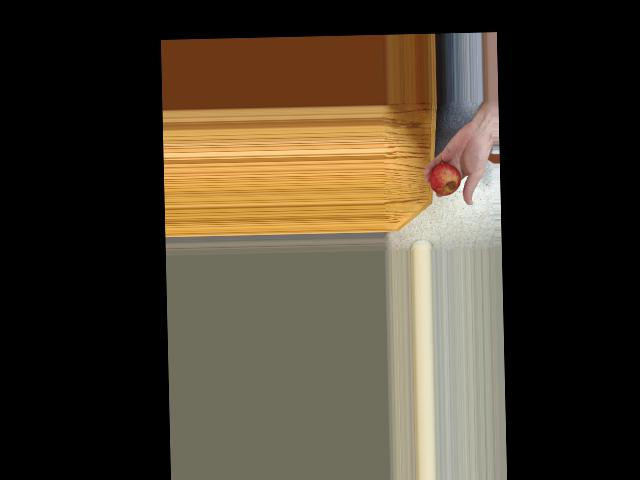apple: (428, 156, 461, 198)
